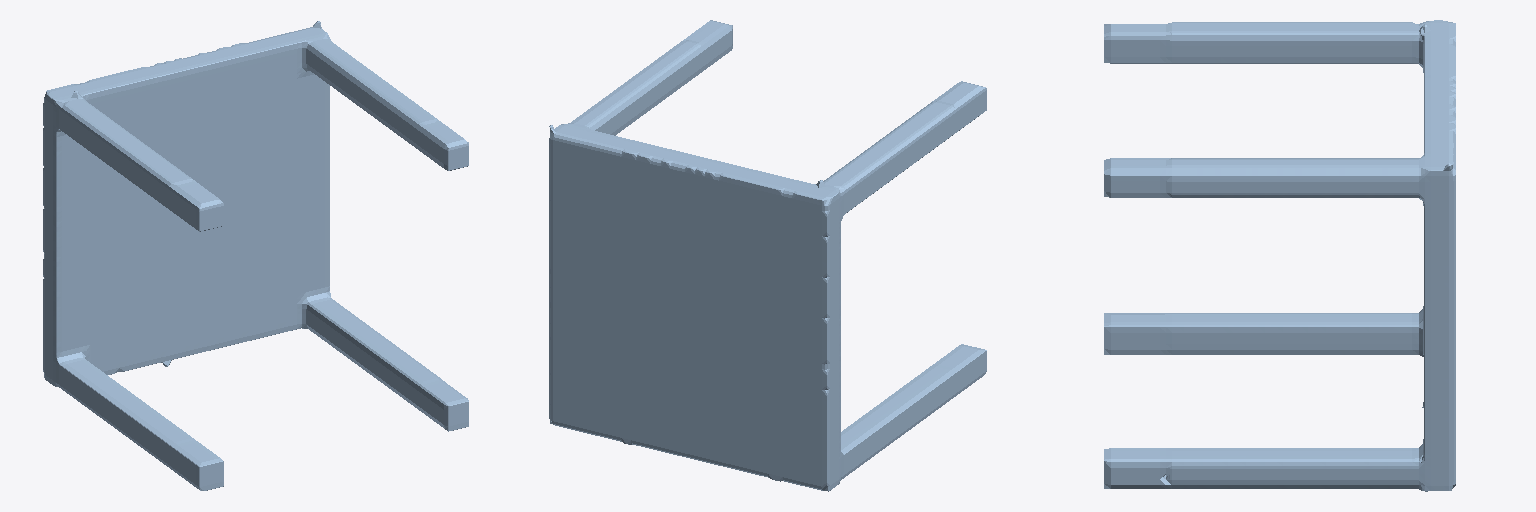
robot.urdf — smalltable.urdf:
<?xml version="1.0" ?>
<robot name="smalltable.urdf">
  <dynamics damping="0.5" friction="0.9"/>
  <link name="baseLink">
    <contact>
      <lateral_friction value="0.9"/>
      <rolling_friction value="0.5"/>
      <stiffness value="30000"/>
      <damping value="1000"/>
    </contact>
    <visual>
      <origin rpy="0 0 0" xyz="0 0 0"/>
      <geometry>
        <mesh filename="smalltable.obj" scale="1.0 1.0 1.0"/>
      </geometry>
       <material name="mat">
        <color rgba="0.7 0.8 0.9 1"/>
      </material>
    </visual>
    <collision>
      <origin rpy="0 0 0" xyz="0 0 0"/>
      <geometry>
	 	<mesh filename="smalltable.obj" scale="1.0 1.0 1.0"/>
      </geometry>
    </collision>
  </link>
</robot>

--- Facts derived from the render (not from the file) ---
Views: 3 orthographic renders of the robot side by side, from view 1: azimuth 30°, elevation 25°; view 2: azimuth 150°, elevation 25°; view 3: azimuth 270°, elevation 25°.
Robot: smalltable.urdf — 1 links, 0 joints (none); root link baseLink; default pose: all joints at 0.
Links seen in each view (by area): view 1: baseLink; view 2: baseLink; view 3: baseLink.
Link boxes in pixels (<box>): baseLink: <box>43,21,468,490</box>; baseLink: <box>549,20,986,491</box>; baseLink: <box>1104,20,1455,491</box>.
Bounding box of the posed robot: 0.3544 × 0.3498 × 0.3673 m (x, y, z).
Meshes: 1 distinct files referenced, 1 mesh visuals loaded (1 OBJ).